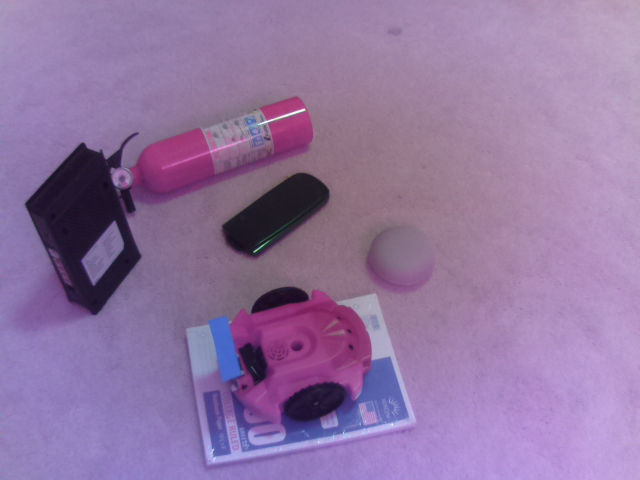board: (201, 310, 254, 391)
chassis: (202, 285, 380, 422)
